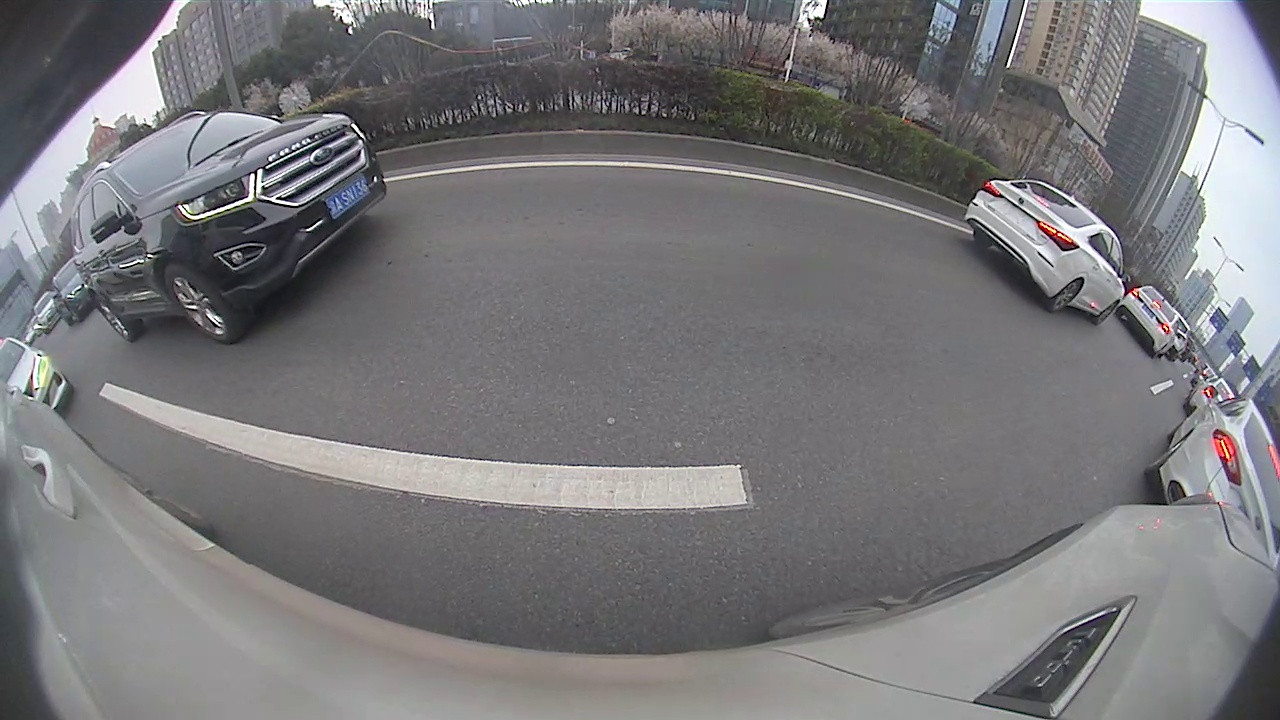car: (69, 109, 387, 345), (1143, 384, 1279, 573), (963, 175, 1133, 324), (1114, 284, 1183, 360)
front: (161, 270, 234, 345)
rear: (91, 291, 133, 341), (1050, 279, 1085, 312)
